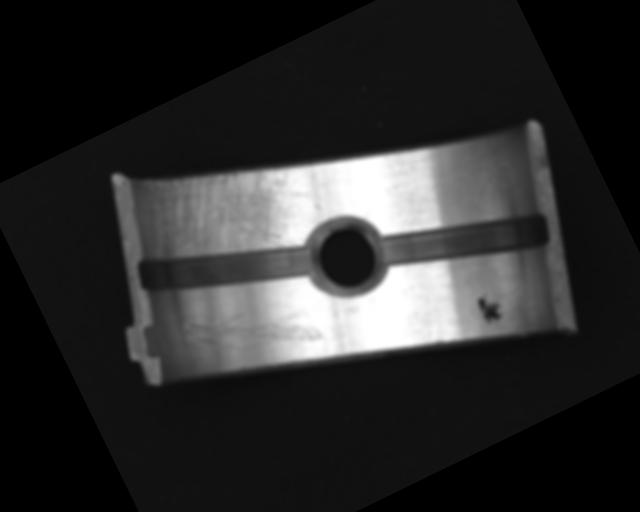blot: (471, 286, 510, 329)
gap: (130, 189, 321, 343), (374, 171, 557, 314)
hole: (302, 212, 395, 306)
nick: (183, 271, 326, 391)
scratch: (127, 116, 331, 307)
